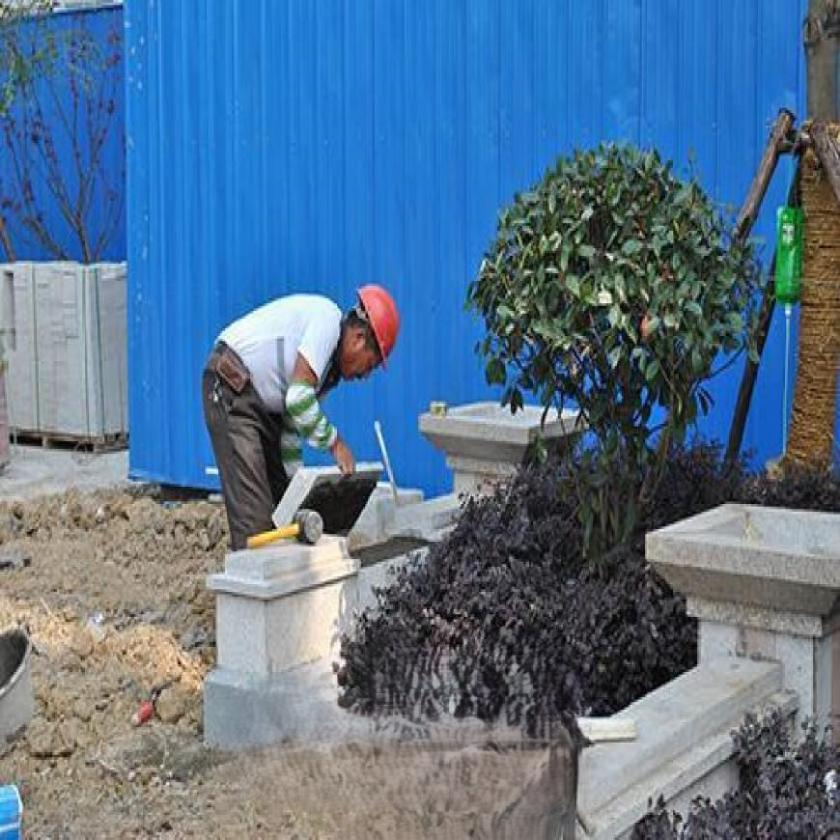Con_casco: (338, 273, 405, 393)
